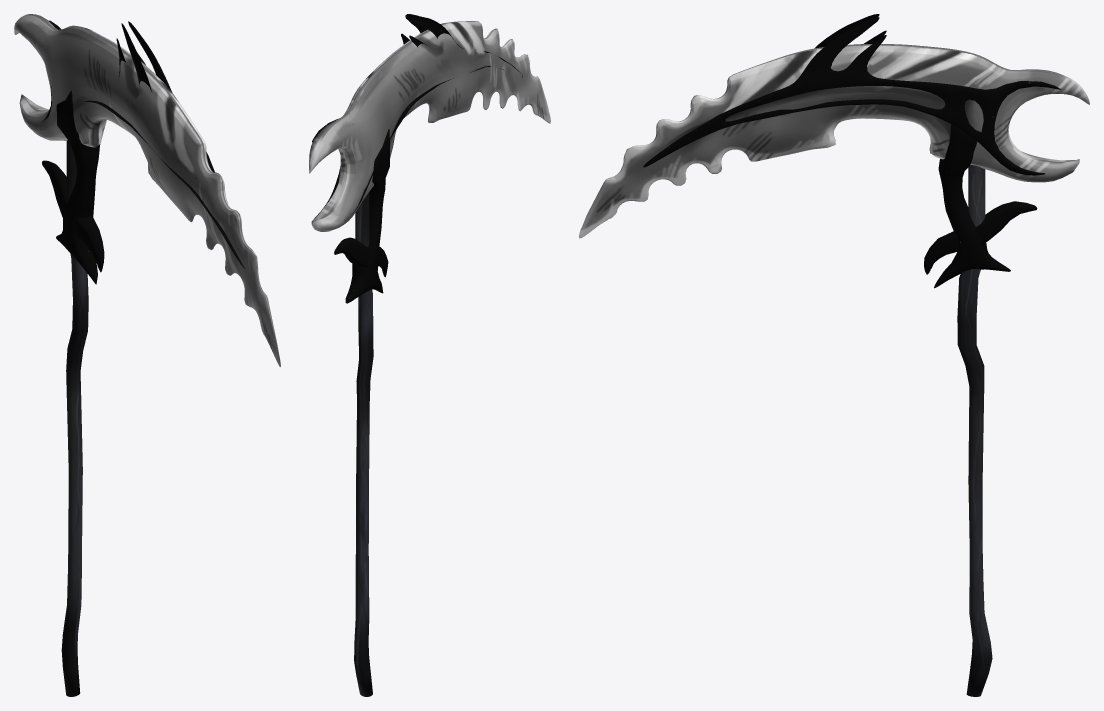
The model's file is Scythe.fbx.
3 views of the same model, side by side, from view 1: azimuth 30°, elevation 25°; view 2: azimuth 150°, elevation 25°; view 3: azimuth 270°, elevation 25° (orthographic). The views are drawn at different scales.
Parts seen in each view (by area): view 1: Blade, Stick, Ornament.002, Ornament.003, Ornament.001, Ornament; view 2: Blade, Stick, Ornament.002, Ornament.001, Ornament.003; view 3: Blade, Ornament, Stick, Ornament.002, Ornament.003.
Part boxes in pixels (bbox=[...]): Blade: bbox=[14, 14, 280, 366]; Stick: bbox=[61, 140, 88, 696]; Ornament.002: bbox=[56, 90, 100, 284]; Ornament.003: bbox=[42, 160, 104, 272]; Ornament.001: bbox=[37, 23, 244, 268]; Ornament: bbox=[49, 20, 214, 172]; Blade: bbox=[309, 21, 550, 231]; Stick: bbox=[354, 192, 373, 696]; Ornament.002: bbox=[345, 129, 389, 303]; Ornament.001: bbox=[351, 15, 522, 214]; Ornament.003: bbox=[334, 237, 388, 277]; Blade: bbox=[579, 44, 1089, 238]; Ornament: bbox=[643, 17, 1061, 175]; Stick: bbox=[957, 165, 992, 696]; Ornament.002: bbox=[934, 124, 1010, 288]; Ornament.003: bbox=[924, 201, 1037, 274].
Bounding box in the file's own units: 20.52 × 266 × 391.
